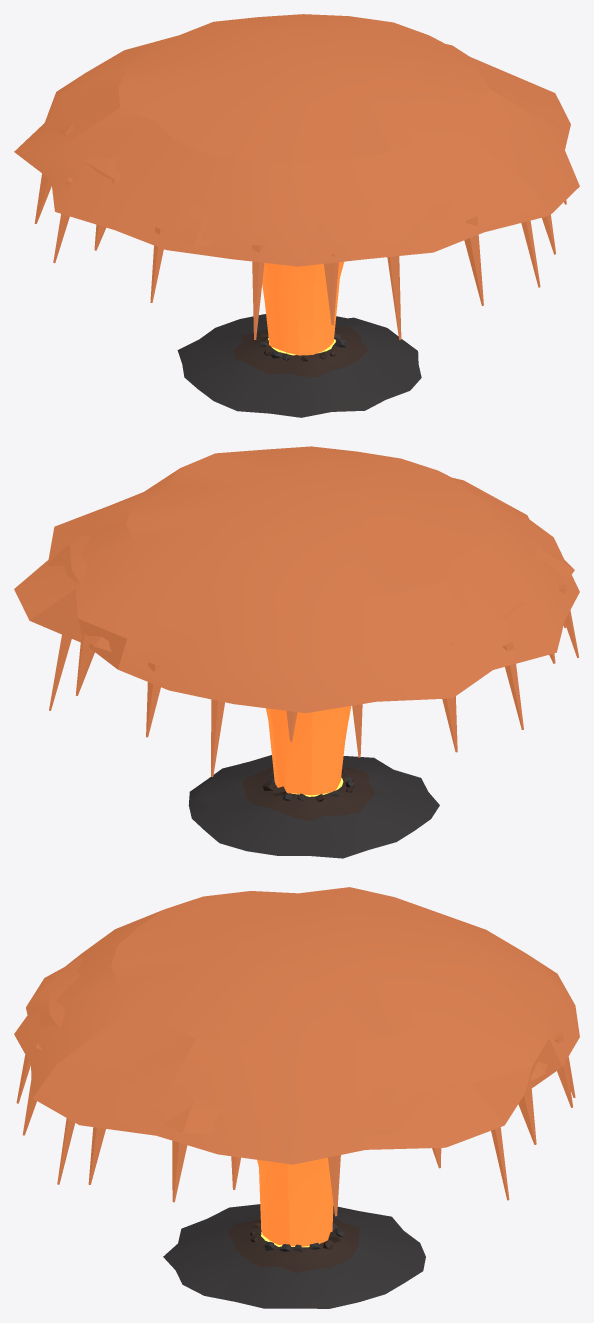
File: plume.glb
3 renders of one model, top to bottom at view 1: azimuth 30°, elevation 25°; view 2: azimuth 150°, elevation 25°; view 3: azimuth 270°, elevation 25°, orthographic. The views are drawn at different scales.
Parts seen in each view (by area): view 1: plume; view 2: plume; view 3: plume.
Part boxes in pixels (x1,y1,x2,y2): plume: (14,14,579,417); plume: (14,446,579,858); plume: (14,887,579,1308).
Bounding box in the file's own units: 74.73 × 43.3 × 70.25.
